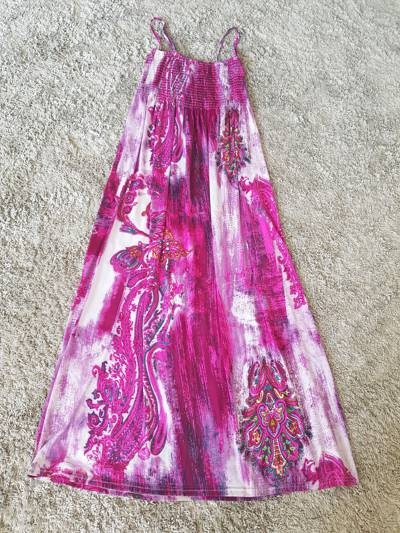Dress: (21, 21, 368, 503)
